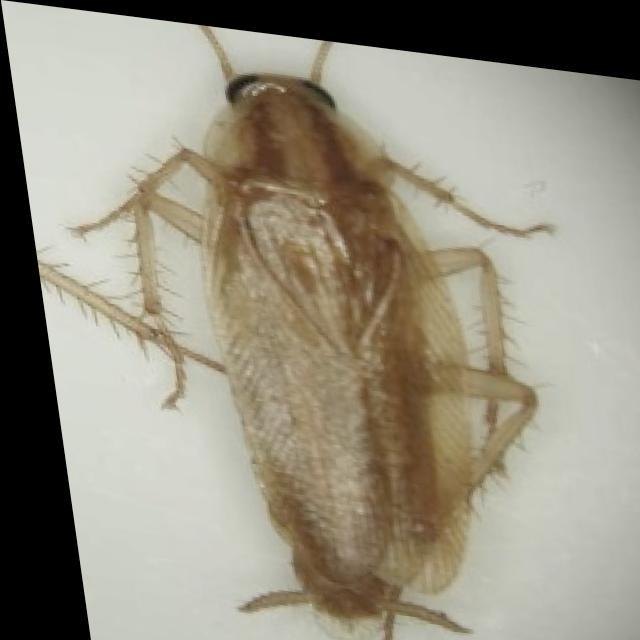cockroach: (37, 48, 559, 636)
